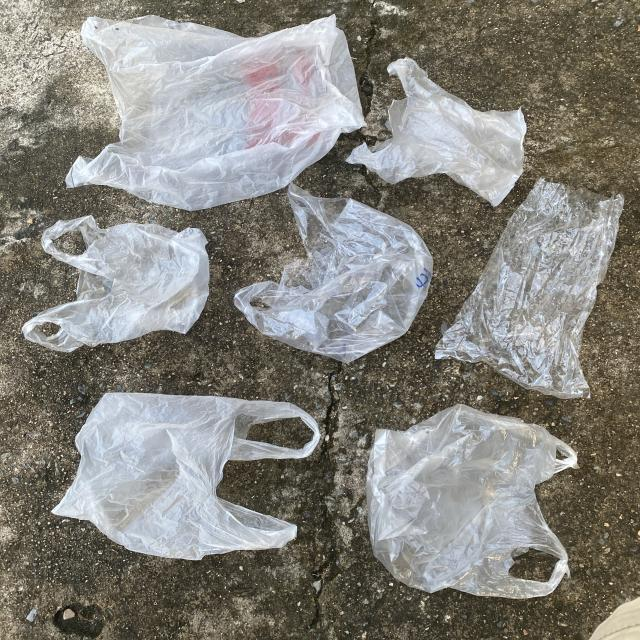Single-layer Plastic: (66, 15, 365, 210), (52, 392, 320, 560), (435, 179, 624, 399), (366, 404, 578, 599), (234, 184, 432, 362), (346, 58, 526, 206), (22, 216, 209, 352)
